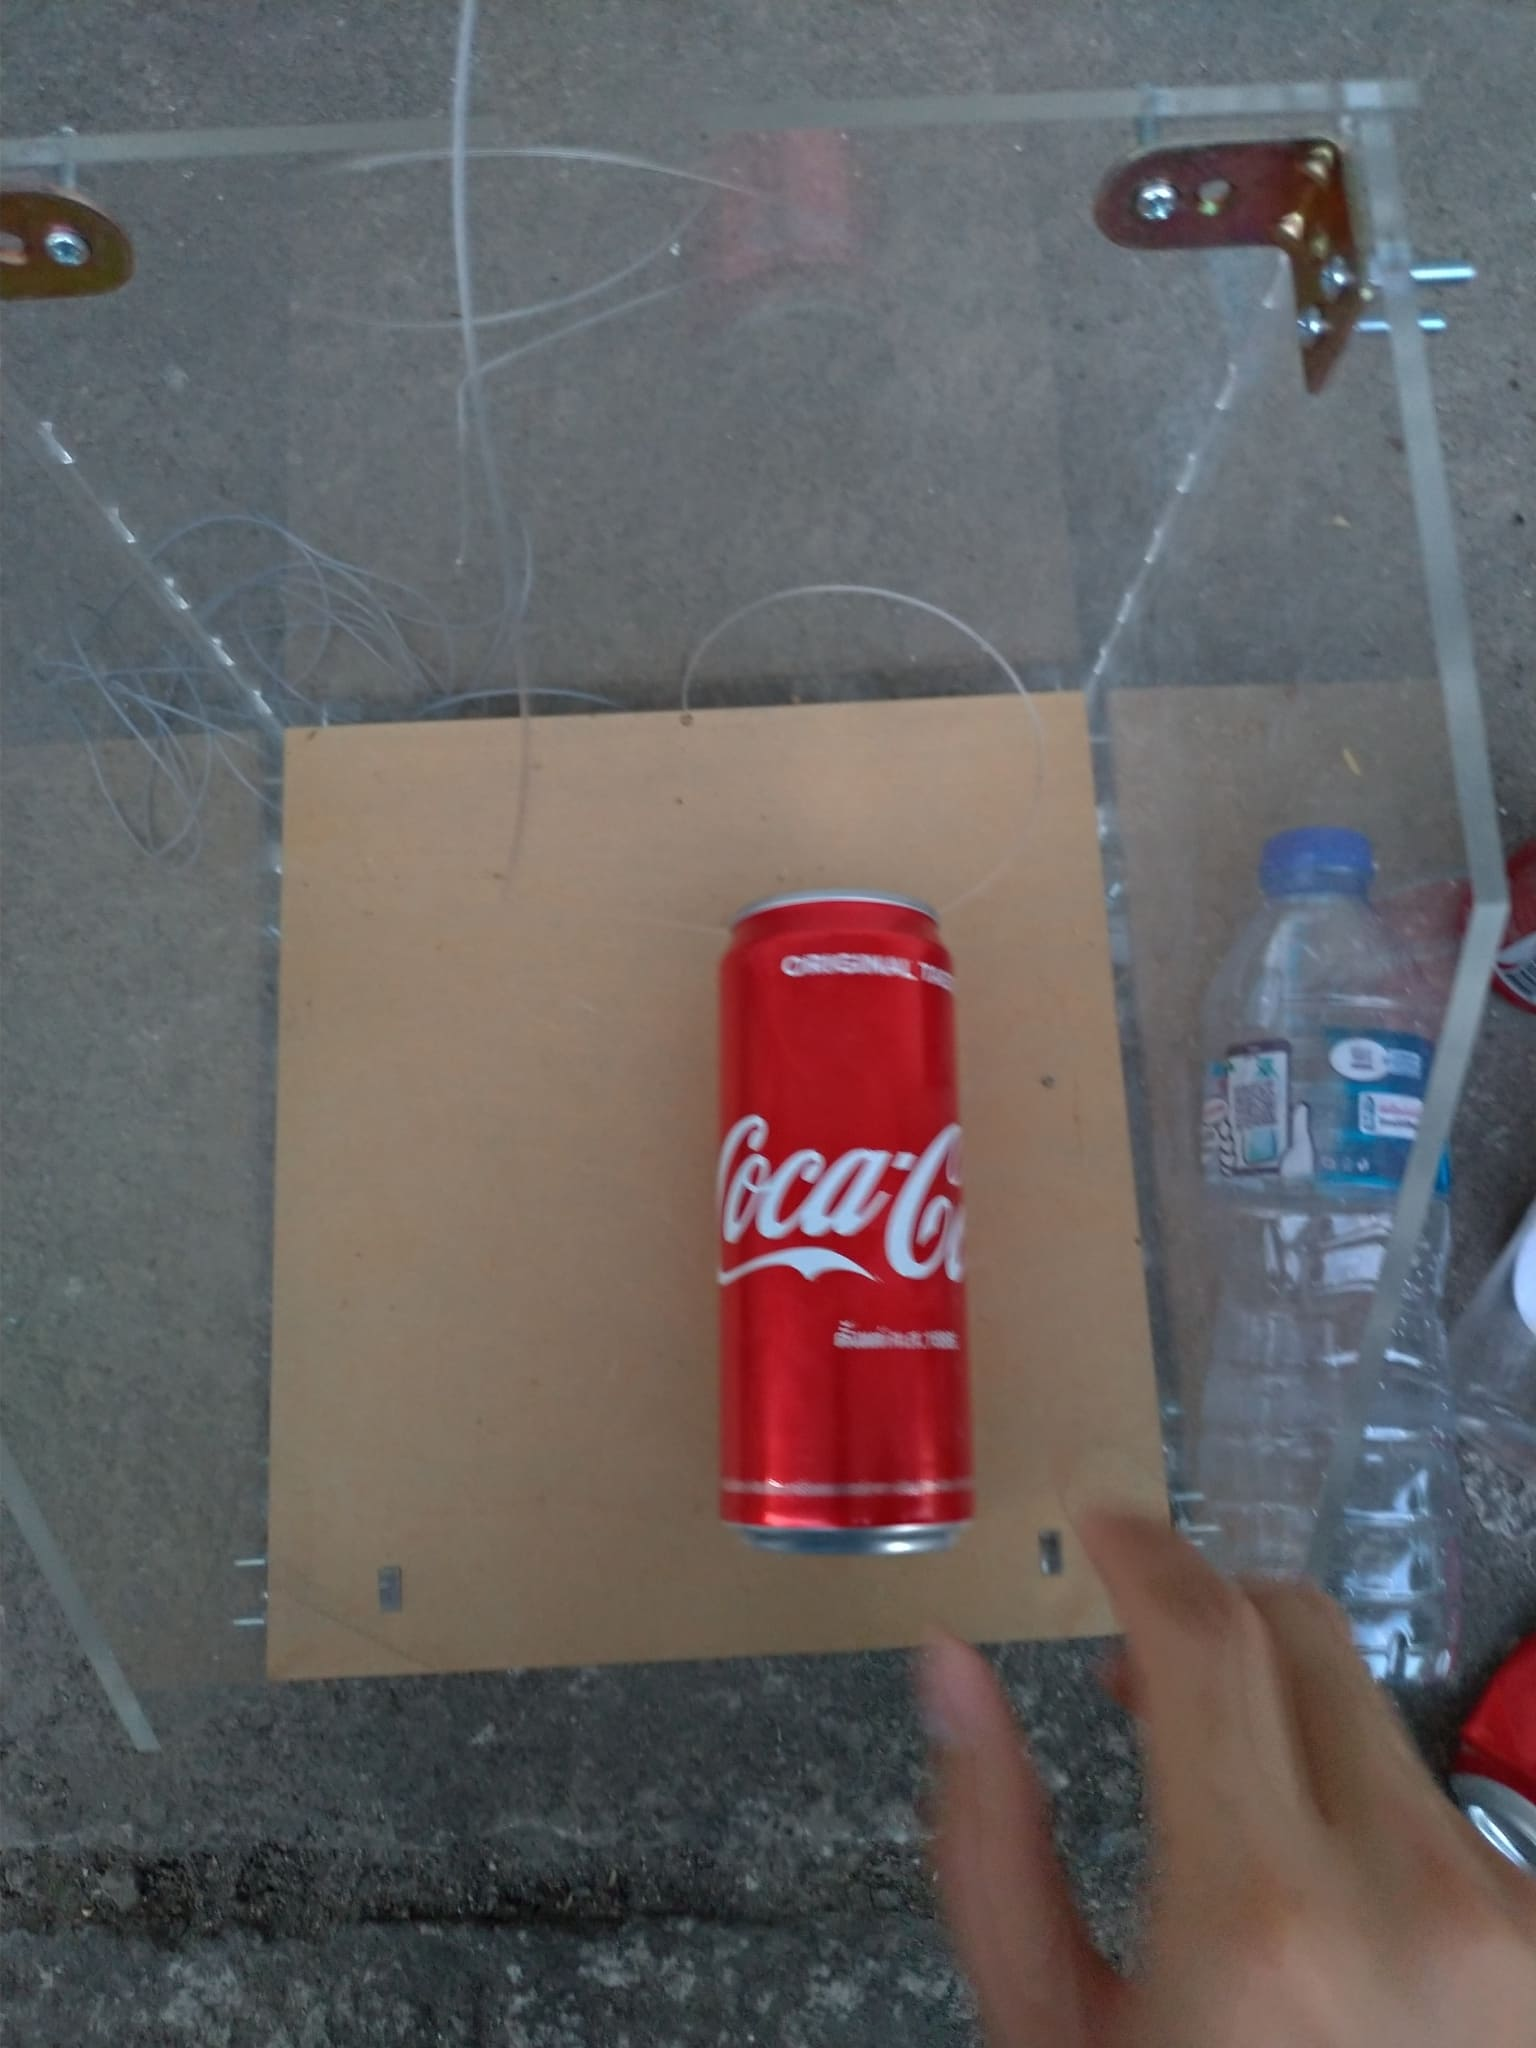AlCan: (703, 890, 975, 1567), (1455, 1632, 1536, 1856)
PlasticBottle: (1178, 822, 1468, 1700)
